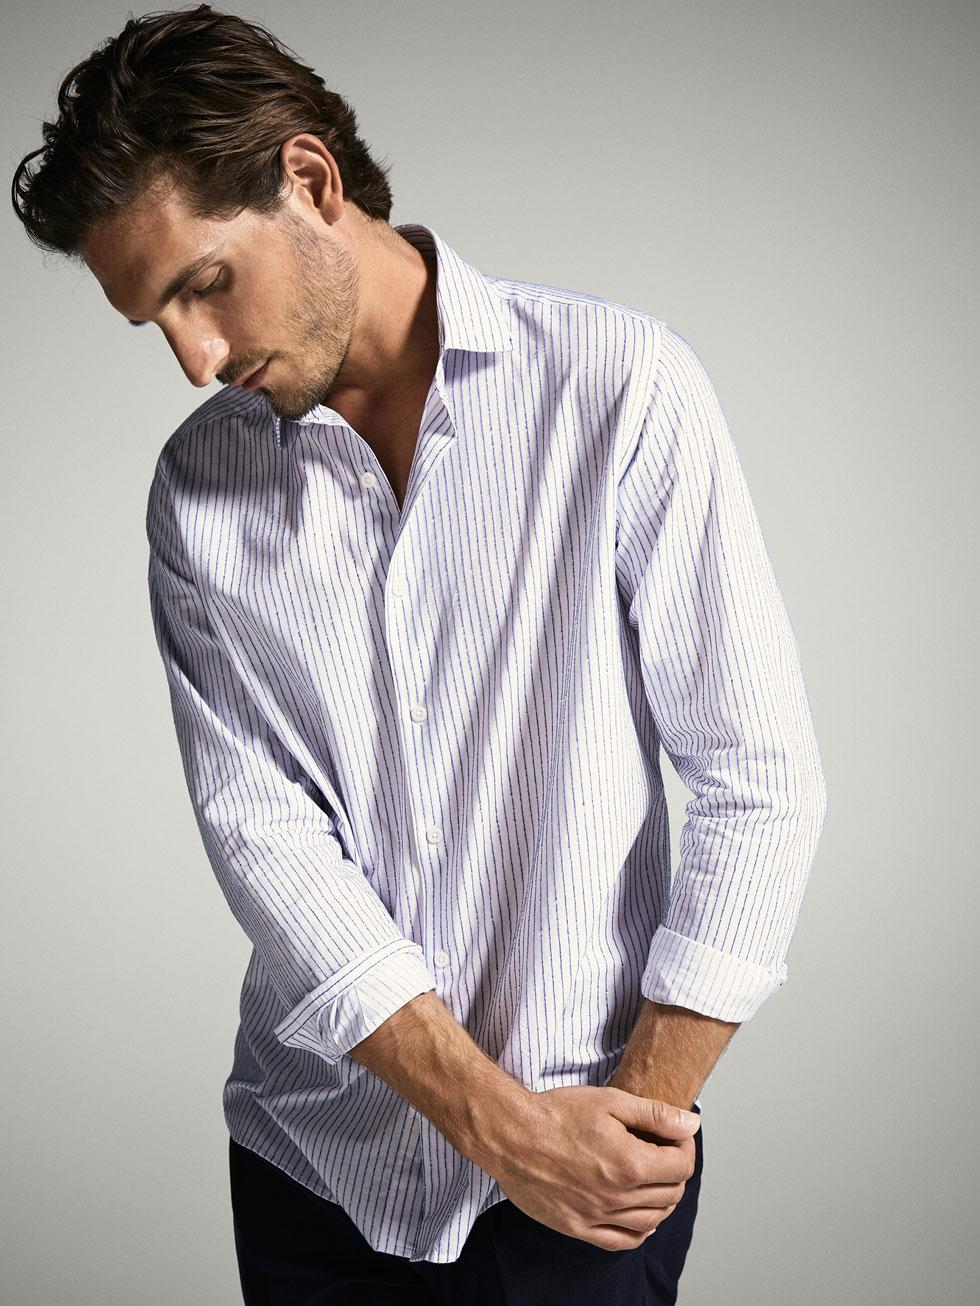teeshirt: (141, 223, 829, 1259)
